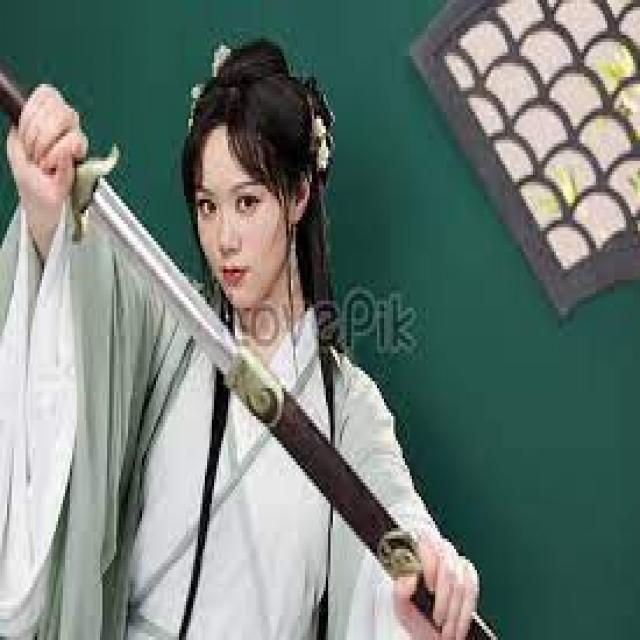long sword: (0, 56, 485, 621)
